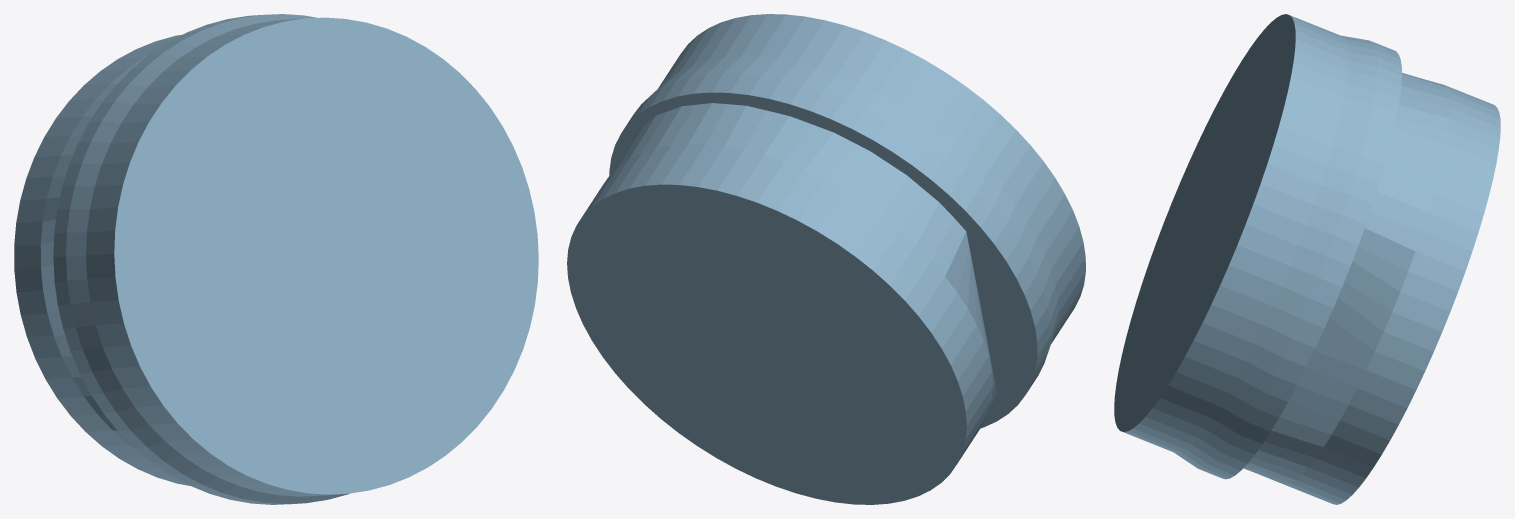
Rendered from right_wrist_z_link_visual_2.obj.
3 renders of one model, left to right at view 1: azimuth 30°, elevation 25°; view 2: azimuth 150°, elevation 25°; view 3: azimuth 270°, elevation 25°, orthographic. The views are drawn at different scales.
Visible parts, largest first — view 1: IndexV2.011_visual.001; view 2: IndexV2.011_visual.001; view 3: IndexV2.011_visual.001.
Boxes of the visible parts, x1,y1,x2,y2 form: IndexV2.011_visual.001: (14,14,538,504); IndexV2.011_visual.001: (567,14,1085,504); IndexV2.011_visual.001: (1114,14,1500,504).
Size of the model in its own units: 0.125 by 0.1331 by 0.1047.
